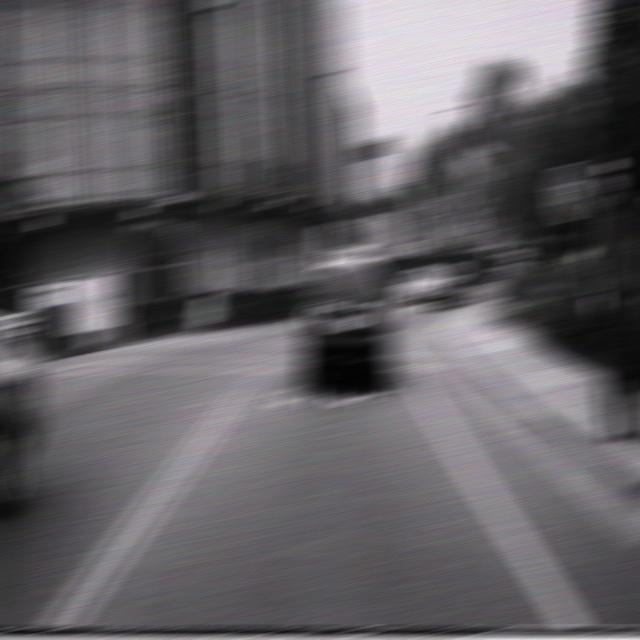stop_sign: (547, 163, 590, 221)
